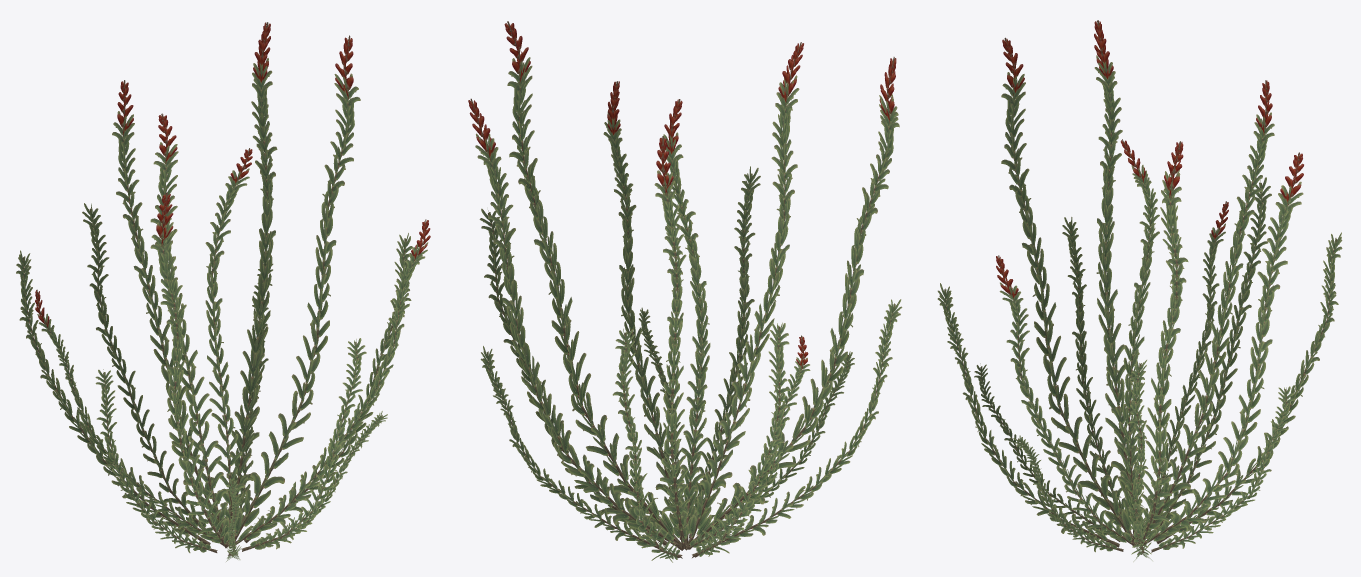
The model's file is shrub1.glb.
The picture shows the model from 3 angles, left to right: view 1: azimuth 30°, elevation 25°; view 2: azimuth 150°, elevation 25°; view 3: azimuth 270°, elevation 25°; orthographic projection. The views are drawn at different scales.
Visible parts, largest first — view 1: ocotillo branch 01_5_ocotillo branch 01_5Mat_0.069; view 2: ocotillo branch 01_5_ocotillo branch 01_5Mat_0.069; view 3: ocotillo branch 01_5_ocotillo branch 01_5Mat_0.069.
Part boxes in pixels (bbox=[...]): ocotillo branch 01_5_ocotillo branch 01_5Mat_0.069: bbox=[16, 22, 430, 561]; ocotillo branch 01_5_ocotillo branch 01_5Mat_0.069: bbox=[468, 21, 902, 562]; ocotillo branch 01_5_ocotillo branch 01_5Mat_0.069: bbox=[937, 20, 1342, 561].
Size of the model in its own units: 24.53 by 31.67 by 23.96.
2 materials, 2 textured.
